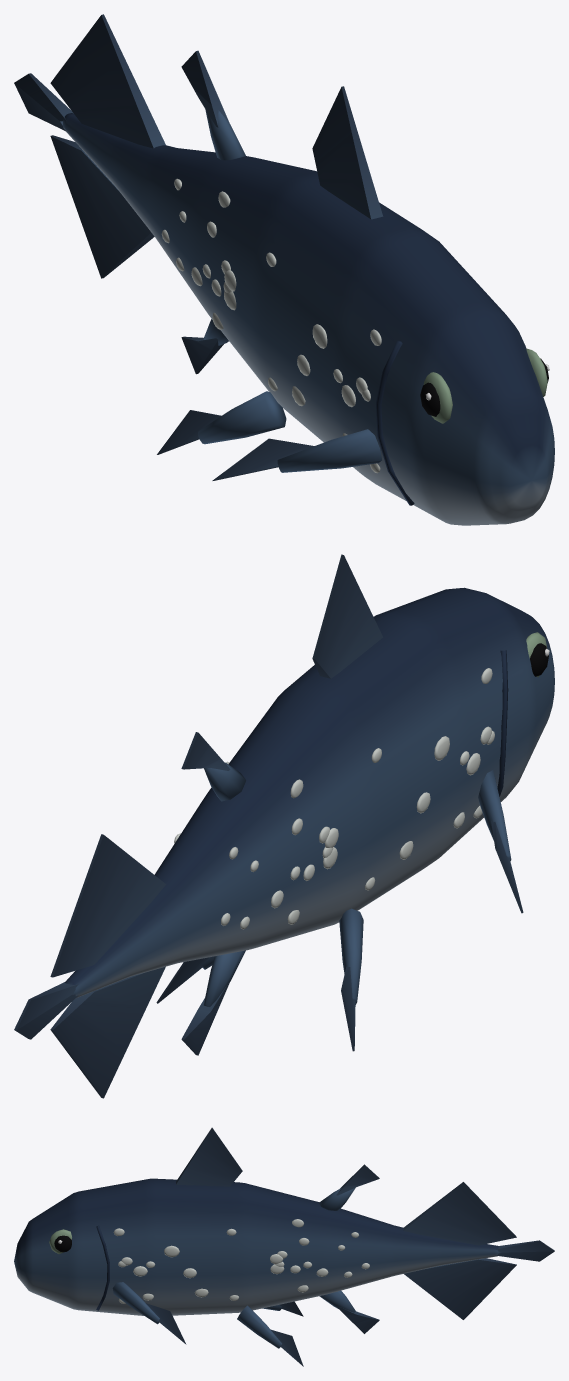
Rendered from Whiteia.fbx.
3 views of the same model, one above another, from view 1: azimuth 30°, elevation 25°; view 2: azimuth 150°, elevation 25°; view 3: azimuth 270°, elevation 25° (orthographic). The views are drawn at different scales.
Parts seen in each view (by area): view 1: Whiteia; view 2: Whiteia; view 3: Whiteia.
Boxes of the visible parts, <box> form: Whiteia: <box>14,14,554,525</box>; Whiteia: <box>14,554,554,1098</box>; Whiteia: <box>14,1127,554,1366</box>.
Bounding box in the file's own units: 0.4943 × 0.62 × 1.42.
